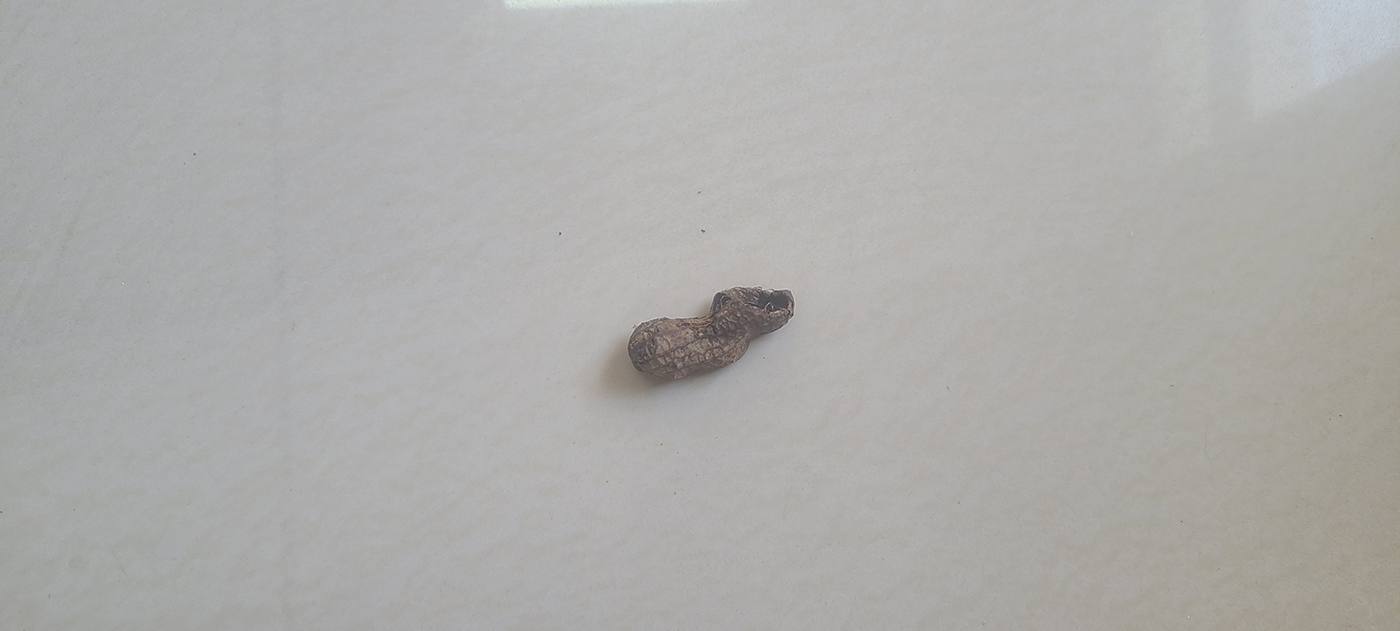l: (624, 284, 799, 386)
